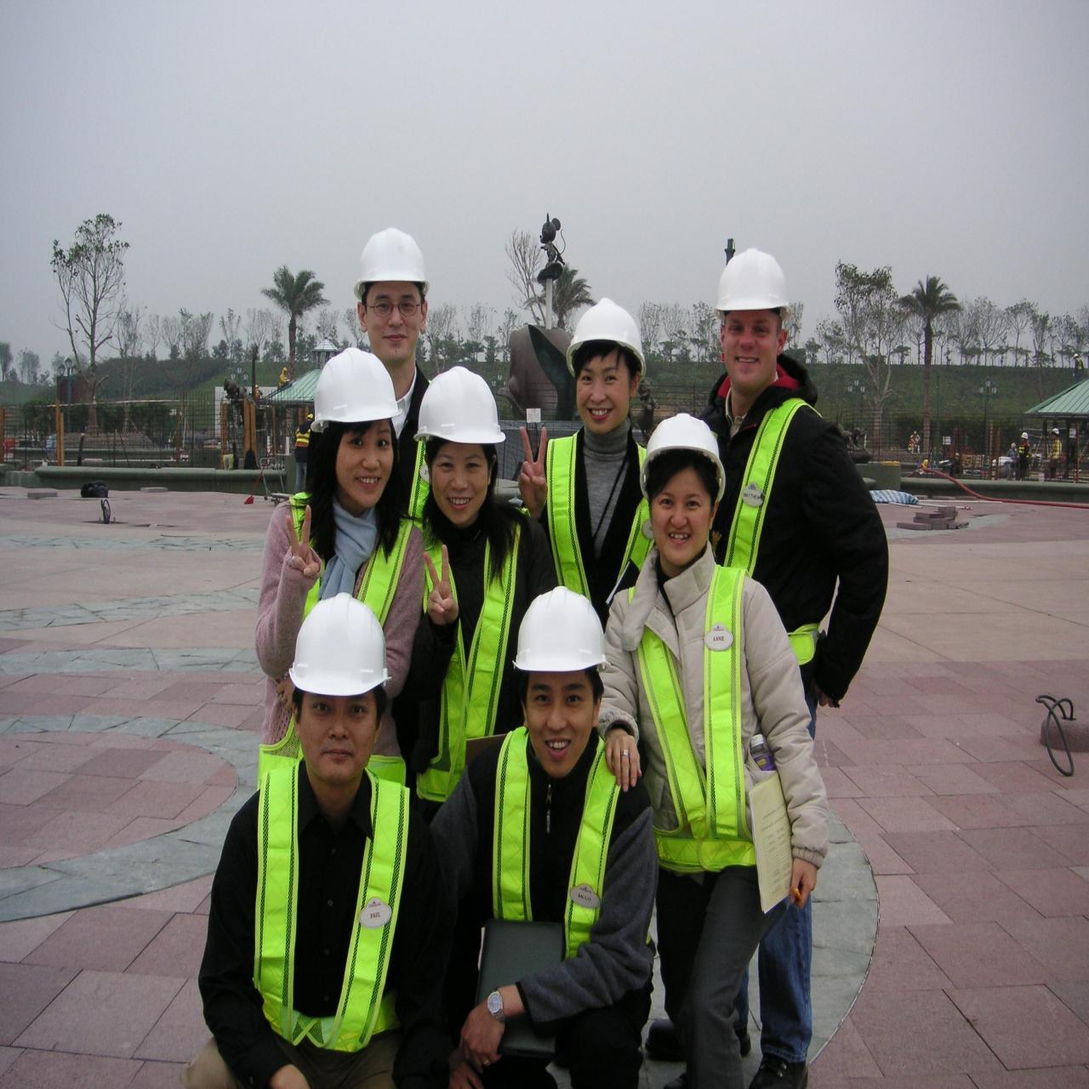NO_Safety_Vest: (216, 753, 421, 1070), (466, 717, 644, 1027), (607, 561, 776, 884), (717, 389, 838, 685), (406, 508, 529, 797), (270, 491, 420, 714), (540, 425, 658, 628)
Person: (584, 395, 834, 1089), (260, 210, 522, 749), (180, 582, 442, 1089), (417, 573, 670, 1089), (676, 233, 892, 753), (244, 333, 433, 775), (388, 341, 555, 807), (520, 284, 684, 653)
